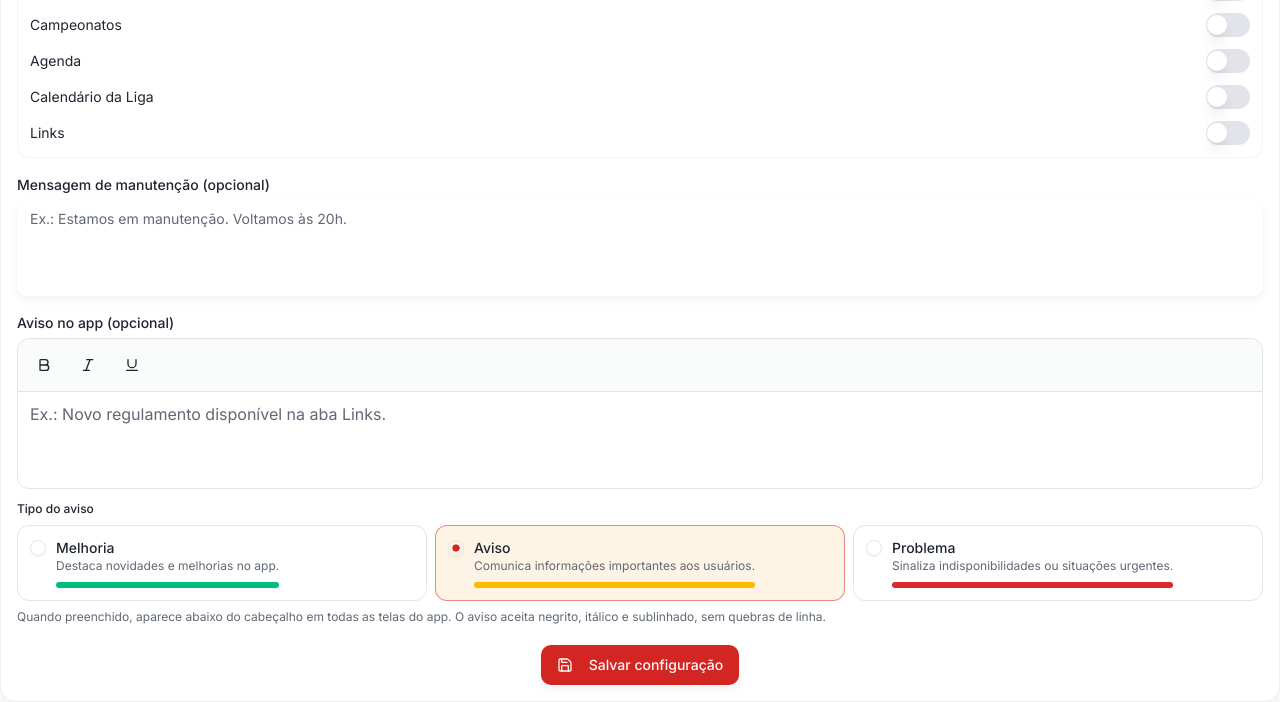
Test: AdminPublicAccessSettings › permite selecionar um único tipo visual para o aviso
(page scrolled)
Expected: the radio button named "Aviso" is checked, left=448, top=540, right=464, bottom=556
Step 1. Click the radio button named "Problema" → (874, 548), box left=866, top=540, right=882, bottom=556
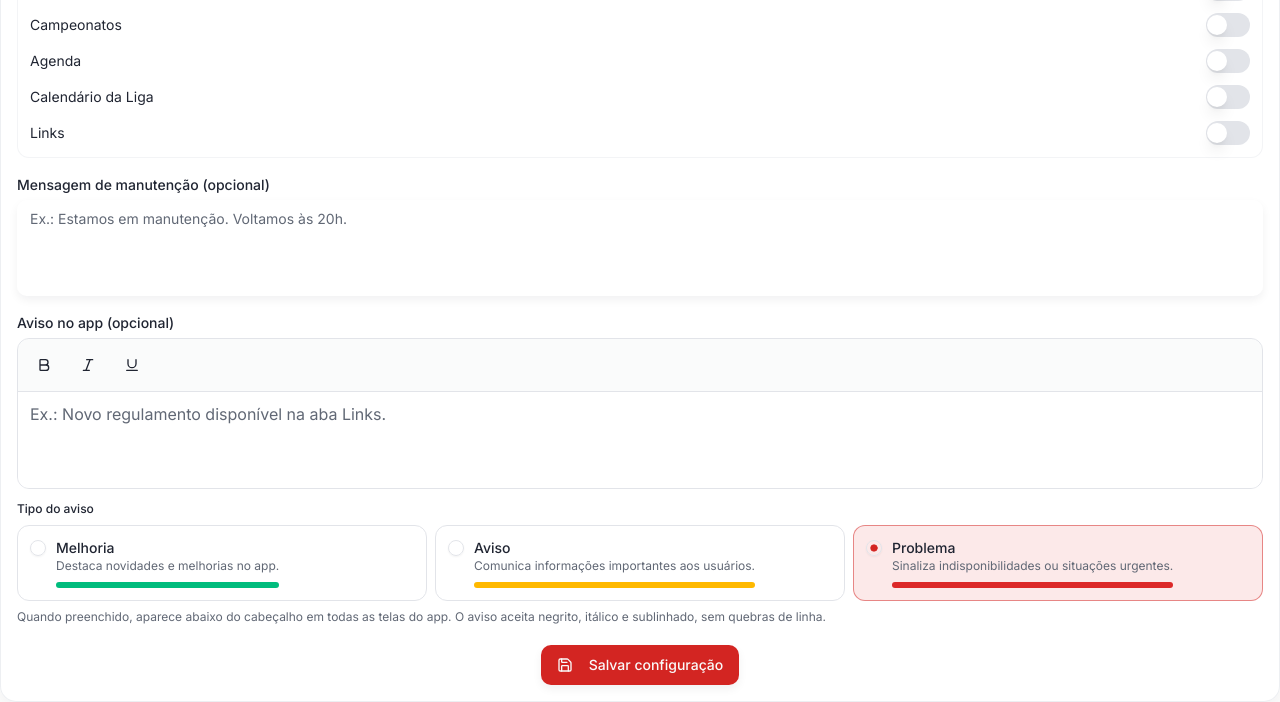
Expected: the radio button named "Melhoria" is not checked, left=30, top=540, right=46, bottom=556
Expected: the radio button named "Problema" is checked, left=866, top=540, right=882, bottom=556
Expected: the radio button named "Aviso" is not checked, left=448, top=540, right=464, bottom=556
